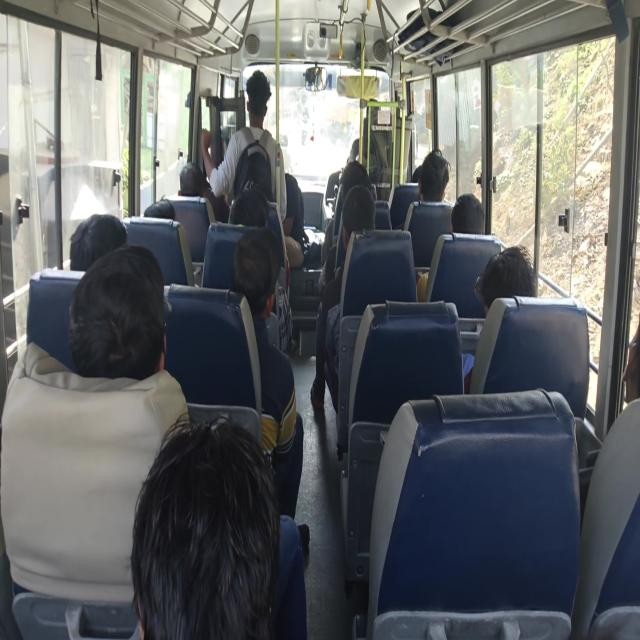person: (130, 412, 308, 639), (230, 229, 309, 550), (570, 318, 639, 638), (310, 184, 376, 412), (68, 243, 170, 381), (201, 69, 288, 225), (462, 244, 537, 393), (228, 186, 294, 353), (416, 192, 485, 302), (320, 160, 373, 266), (474, 244, 536, 317), (69, 212, 127, 272), (178, 161, 230, 224), (281, 148, 306, 266), (417, 148, 450, 204), (228, 186, 269, 228), (450, 192, 484, 234), (178, 161, 208, 197), (143, 197, 176, 220)
